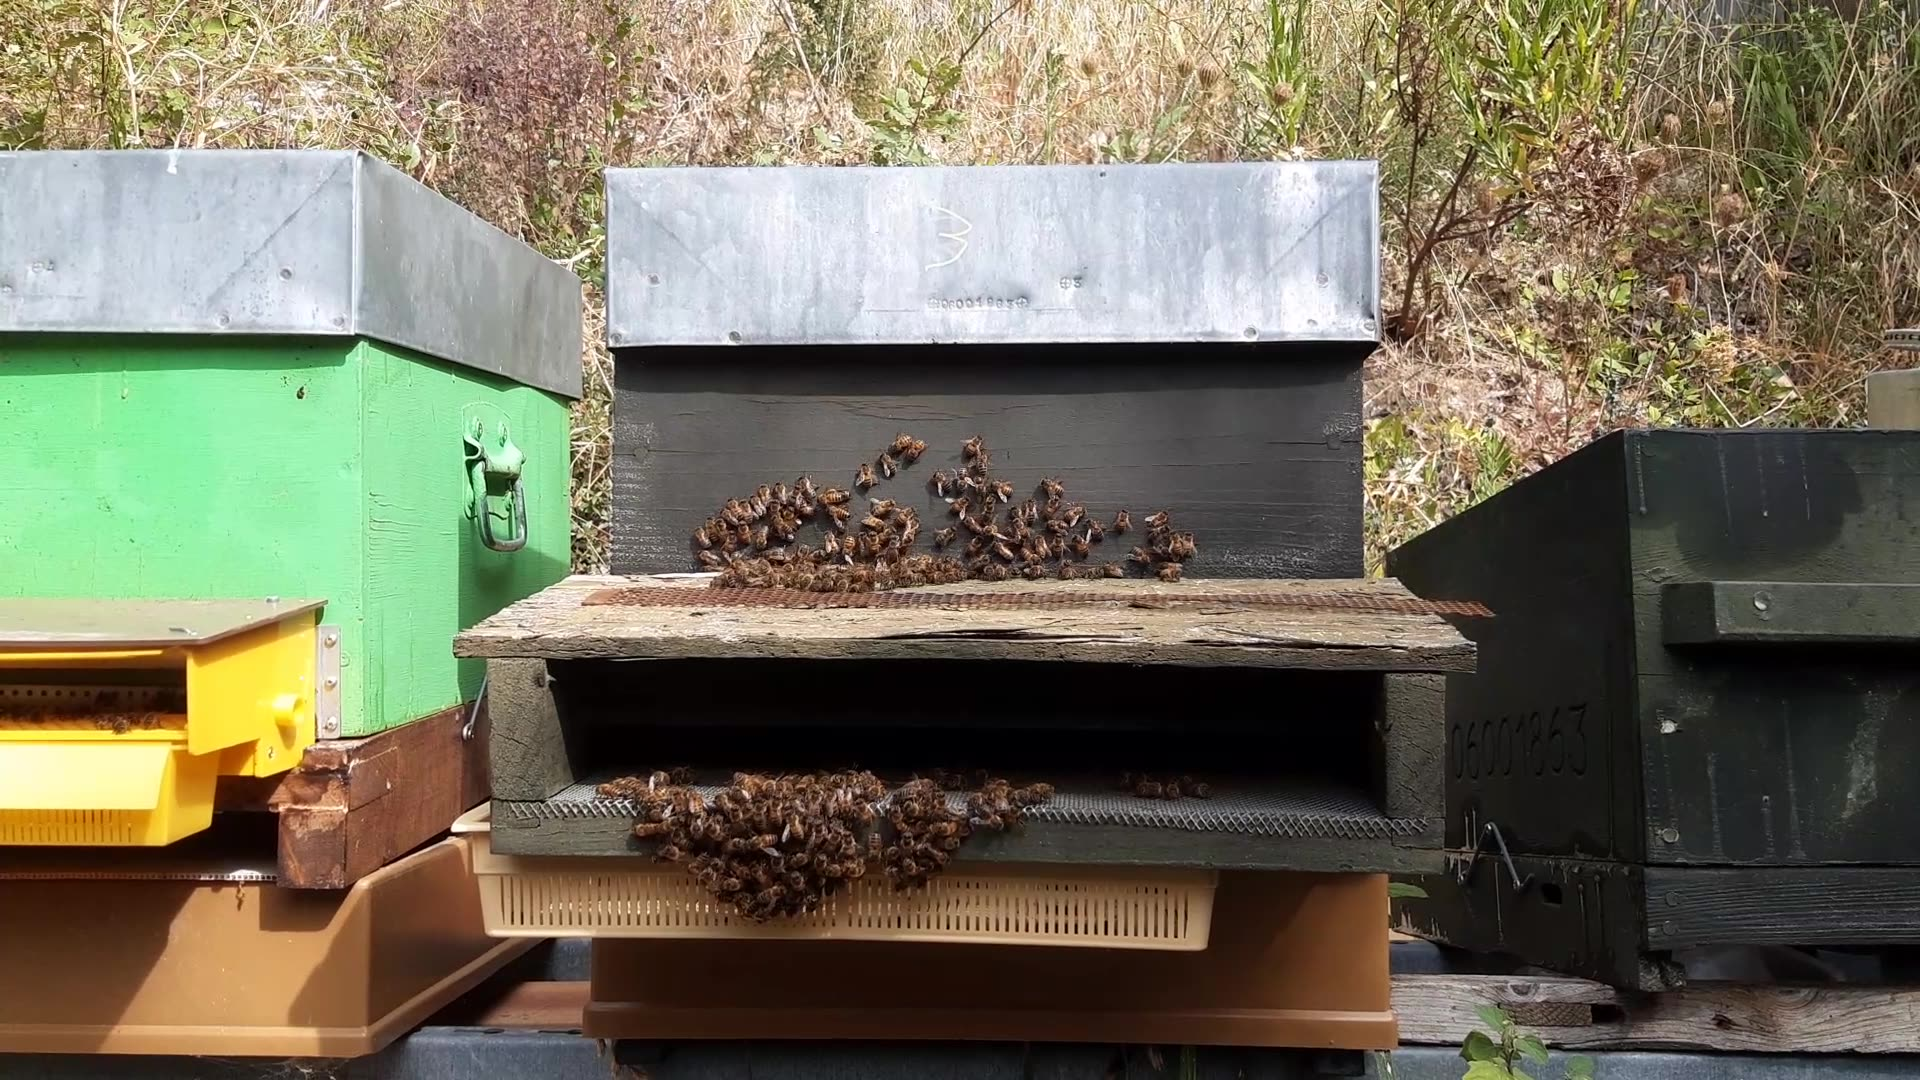bee: (597, 782, 694, 849), (717, 872, 800, 942), (711, 789, 794, 858), (949, 518, 1022, 587), (1106, 516, 1187, 575), (721, 510, 798, 558), (851, 516, 913, 574), (1017, 513, 1080, 564), (935, 463, 1000, 513), (866, 454, 935, 500), (1373, 302, 1424, 357), (893, 431, 952, 473), (757, 491, 822, 527), (1006, 489, 1058, 534)
